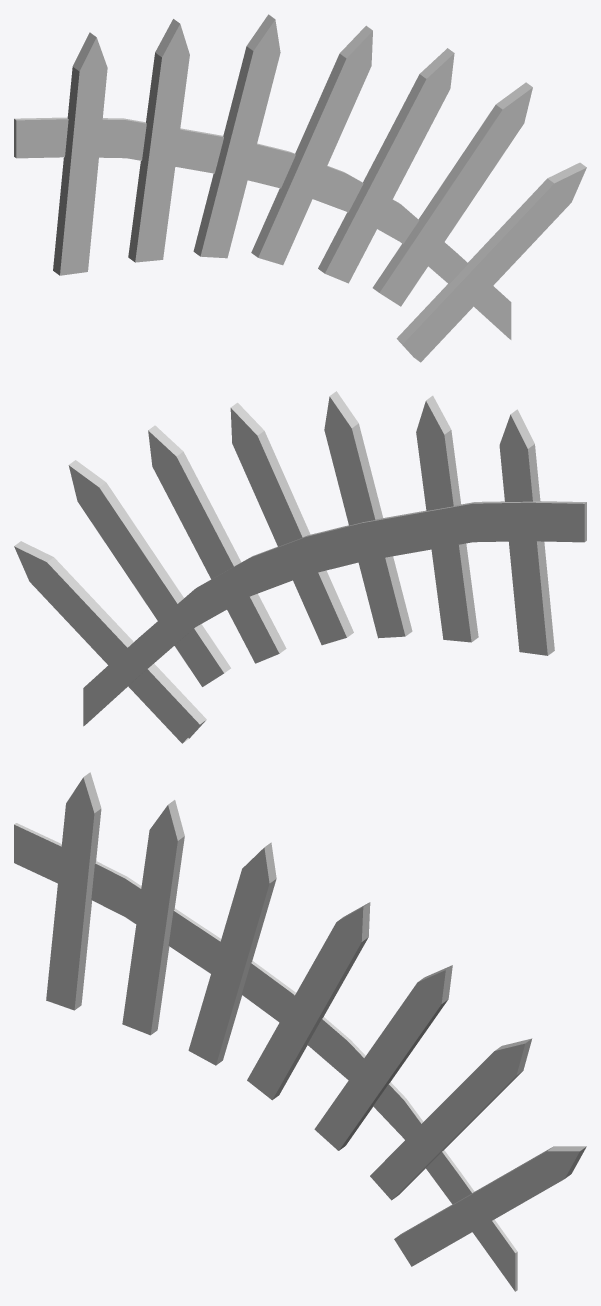
The model's file is CercaCurvadaDireita.fbx.
The picture shows the model from 3 angles, top to bottom: view 1: azimuth 30°, elevation 25°; view 2: azimuth 150°, elevation 25°; view 3: azimuth 330°, elevation 25°; orthographic projection.
Visible parts, largest first — view 1: CercaCurvadaDireita; view 2: CercaCurvadaDireita; view 3: CercaCurvadaDireita.
Part boxes in pixels (bbox=[...]): CercaCurvadaDireita: bbox=[14, 14, 586, 362]; CercaCurvadaDireita: bbox=[14, 391, 586, 743]; CercaCurvadaDireita: bbox=[14, 772, 586, 1291].
Bounding box in the file's own units: 462 × 320 × 11.74.
